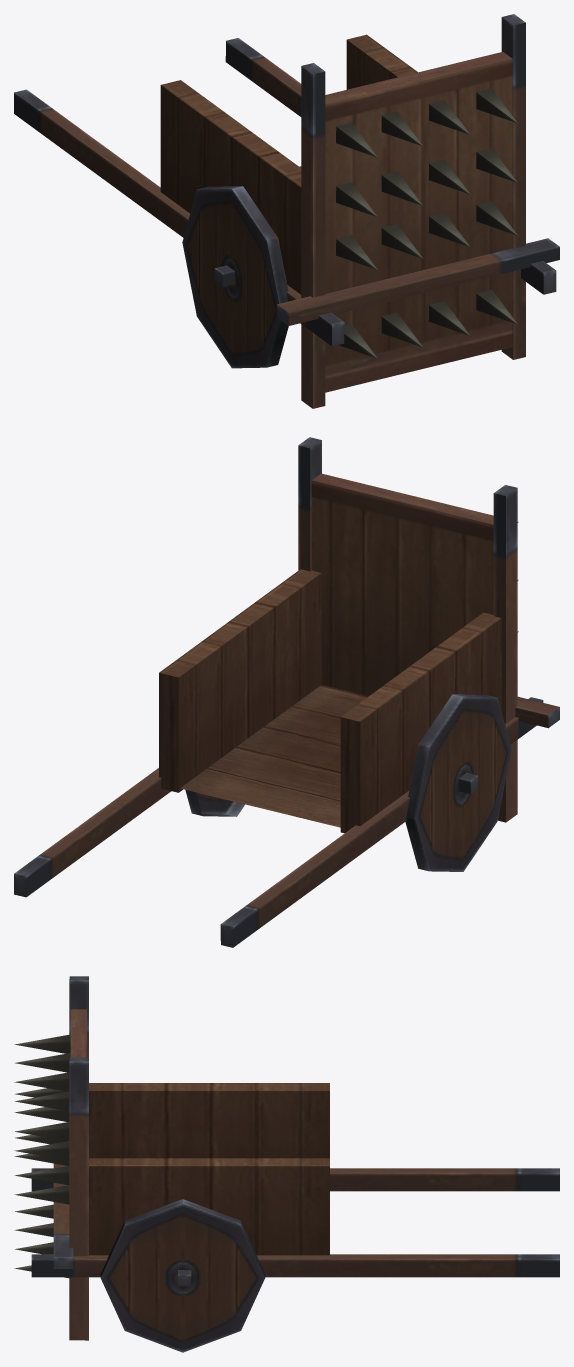
The model's file is GZ_Xsc_xiaoche_01_D.FBX.
3 renders of one model, top to bottom at view 1: azimuth 30°, elevation 25°; view 2: azimuth 150°, elevation 25°; view 3: azimuth 270°, elevation 25°, orthographic. The views are drawn at different scales.
Visible parts, largest first — view 1: GZ_Xsc_xiaoche_01_D; view 2: GZ_Xsc_xiaoche_01_D; view 3: GZ_Xsc_xiaoche_01_D.
Part boxes in pixels (box(x1,y1,x2,y2)): GZ_Xsc_xiaoche_01_D: box(14, 14, 559, 408); GZ_Xsc_xiaoche_01_D: box(14, 437, 559, 947); GZ_Xsc_xiaoche_01_D: box(14, 976, 559, 1352).
Size of the model in its own units: 4.42 by 5.2 by 9.09.
